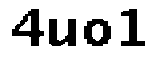1: (116, 6, 148, 51)
4: (8, 7, 44, 48)
o: (81, 17, 112, 49)
u: (46, 15, 80, 51)
